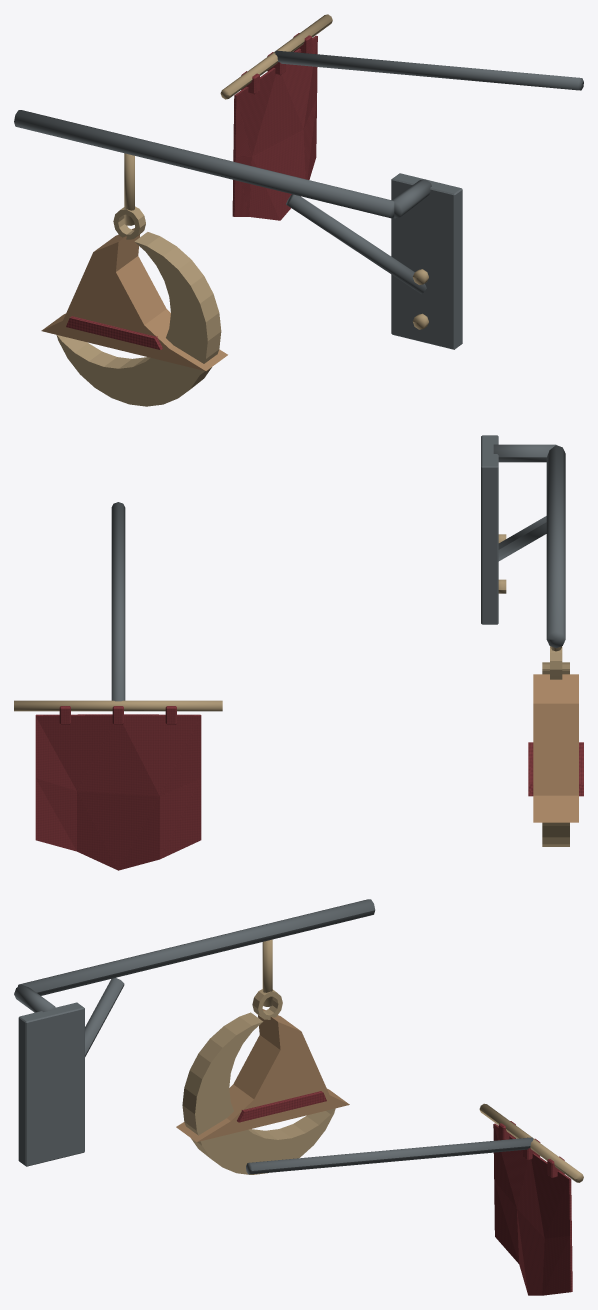
File: yokocho-witch-moon-sign.glb
The picture shows the model from 3 angles, top to bottom: view 1: azimuth 30°, elevation 25°; view 2: azimuth 150°, elevation 25°; view 3: azimuth 270°, elevation 25°; orthographic projection. The views are drawn at different scales.
Visible parts, largest first — view 1: Shops/S04/ProjectingSigns/WitchMoonAssembly__Iron, Shops/S04/ProjectingSigns/WitchMoonAssembly__Bronze, Shops/S04/ProjectingSigns/WitchMoonAssembly__Night_WineUphol, Shops/S04/ProjectingSigns/WitchMoonAssembly__Night_Walnut; view 2: Shops/S04/ProjectingSigns/WitchMoonAssembly__Night_WineUphol, Shops/S04/ProjectingSigns/WitchMoonAssembly__Iron, Shops/S04/ProjectingSigns/WitchMoonAssembly__Night_Walnut, Shops/S04/ProjectingSigns/WitchMoonAssembly__Bronze; view 3: Shops/S04/ProjectingSigns/WitchMoonAssembly__Iron, Shops/S04/ProjectingSigns/WitchMoonAssembly__Bronze, Shops/S04/ProjectingSigns/WitchMoonAssembly__Night_WineUphol, Shops/S04/ProjectingSigns/WitchMoonAssembly__Night_Walnut.
Part boxes in pixels (left/top/right/bottom): Shops/S04/ProjectingSigns/WitchMoonAssembly__Iron: left=14, top=50, right=583, bottom=349; Shops/S04/ProjectingSigns/WitchMoonAssembly__Bronze: left=56, top=14, right=428, bottom=406; Shops/S04/ProjectingSigns/WitchMoonAssembly__Night_WineUphol: left=66, top=33, right=317, bottom=349; Shops/S04/ProjectingSigns/WitchMoonAssembly__Night_Walnut: left=41, top=228, right=227, bottom=371; Shops/S04/ProjectingSigns/WitchMoonAssembly__Night_WineUphol: left=35, top=706, right=583, bottom=870; Shops/S04/ProjectingSigns/WitchMoonAssembly__Iron: left=111, top=435, right=565, bottom=701; Shops/S04/ProjectingSigns/WitchMoonAssembly__Night_Walnut: left=533, top=674, right=578, bottom=822; Shops/S04/ProjectingSigns/WitchMoonAssembly__Bronze: left=14, top=534, right=569, bottom=846; Shops/S04/ProjectingSigns/WitchMoonAssembly__Iron: left=14, top=899, right=533, bottom=1174; Shops/S04/ProjectingSigns/WitchMoonAssembly__Bronze: left=182, top=939, right=583, bottom=1182; Shops/S04/ProjectingSigns/WitchMoonAssembly__Night_WineUphol: left=237, top=1091, right=572, bottom=1295; Shops/S04/ProjectingSigns/WitchMoonAssembly__Night_Walnut: left=176, top=1009, right=349, bottom=1142.
Bounding box in the file's own units: 0.9537 × 0.4676 × 0.9955.
4 materials, 1 textured.
